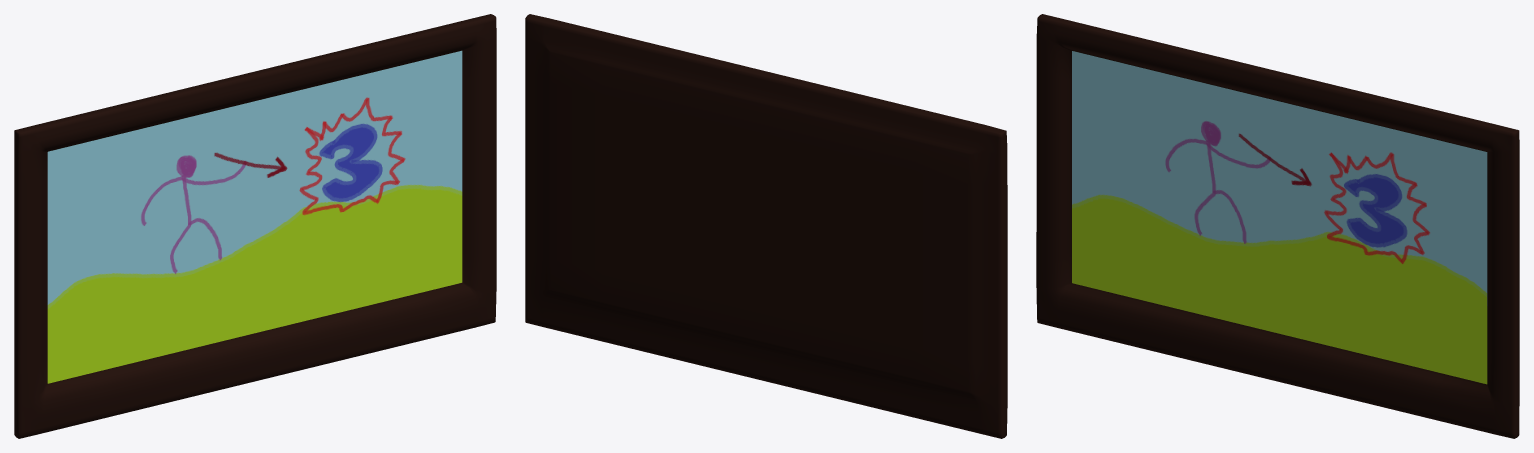
Rendered from painting.FBX.
The picture shows the model from 3 angles, left to right: view 1: azimuth 30°, elevation 25°; view 2: azimuth 150°, elevation 25°; view 3: azimuth 330°, elevation 25°; orthographic projection.
Parts seen in each view (by area): view 1: Canvas, Painting; view 2: Painting; view 3: Canvas, Painting.
Part boxes in pixels (left/top/right/bottom): Canvas: left=47, top=50, right=462, bottom=383; Painting: left=14, top=14, right=496, bottom=438; Painting: left=525, top=14, right=1007, bottom=438; Canvas: left=1072, top=51, right=1487, bottom=384; Painting: left=1036, top=14, right=1519, bottom=438.
Size of the model in its own units: 49.53 by 30.32 by 1.73.
